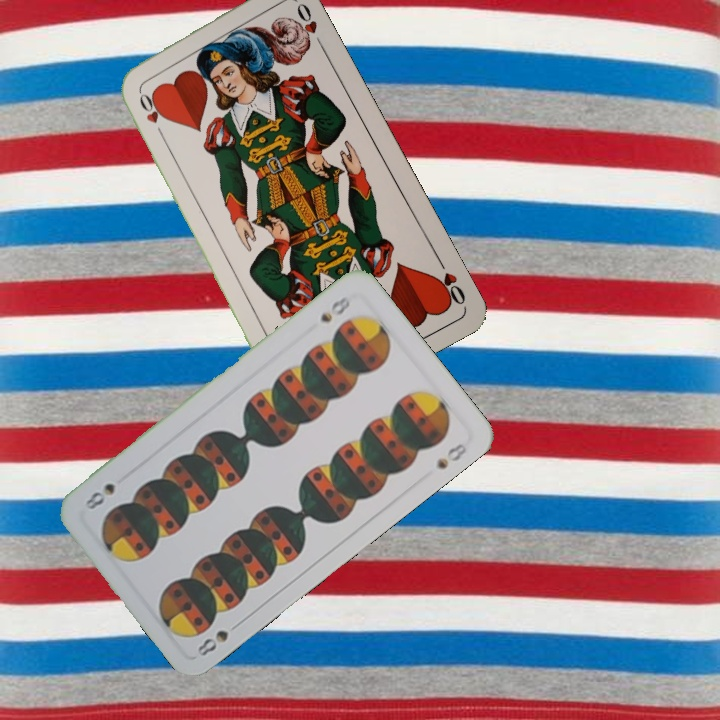HO: (430, 254, 468, 309), (134, 87, 167, 142)
S8: (192, 617, 244, 659), (316, 292, 355, 326)
